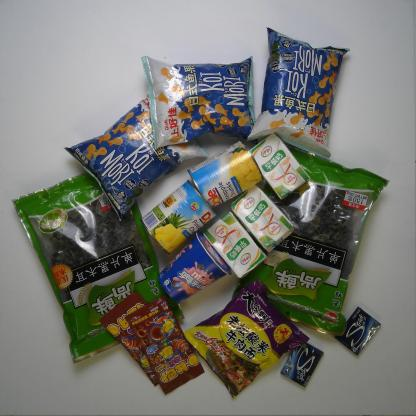Candy: (124, 296, 204, 397), (99, 290, 179, 387)
Canned Food: (142, 181, 214, 252), (186, 143, 263, 207)
Dessert: (158, 232, 232, 303)
Dried Food: (13, 169, 188, 365), (232, 129, 388, 340)
Gum: (334, 304, 382, 357), (278, 338, 324, 388)
Instant Noodles: (184, 283, 307, 398)
Milk: (202, 211, 269, 280), (229, 183, 294, 251), (250, 132, 308, 202)
Puffed Food: (64, 93, 211, 218), (246, 25, 349, 158), (142, 52, 256, 146)
